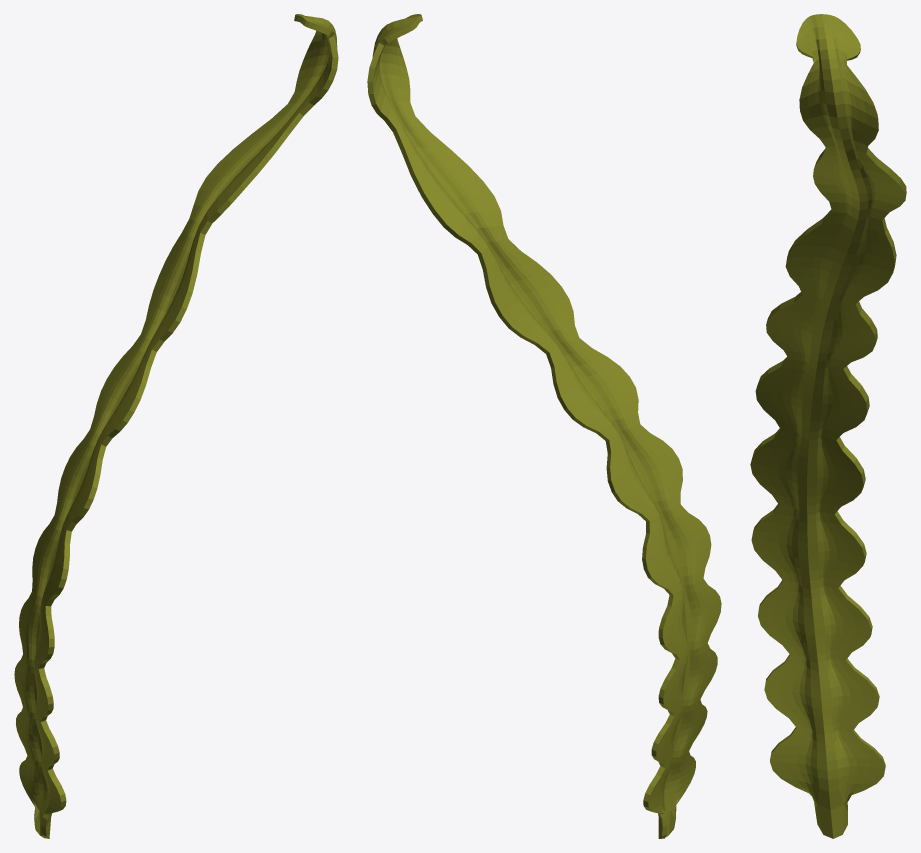
File: Seagweeds 23.fbx
3 views of the same model, side by side, from view 1: azimuth 30°, elevation 25°; view 2: azimuth 150°, elevation 25°; view 3: azimuth 270°, elevation 25° (orthographic). The views are drawn at different scales.
Parts seen in each view (by area): view 1: Seaweed6; view 2: Seaweed6; view 3: Seaweed6.
Part boxes in pixels (x1,y1,x2,y2): Seaweed6: (14,14,338,838); Seaweed6: (367,14,721,838); Seaweed6: (750,14,906,838).
Bounding box in the file's own units: 6.07 × 13.83 × 2.
